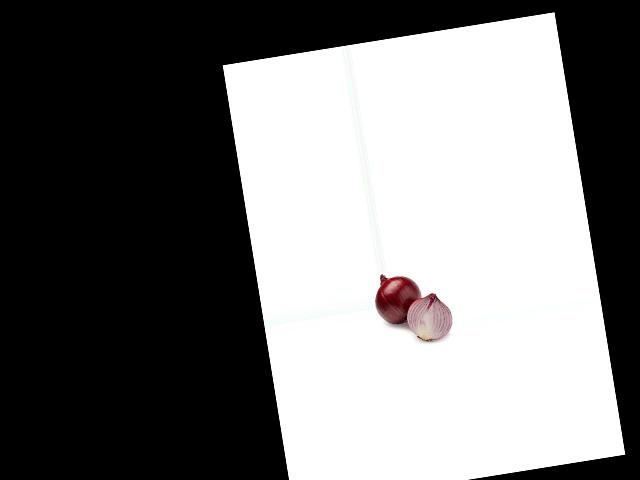onion: (406, 290, 453, 342)
